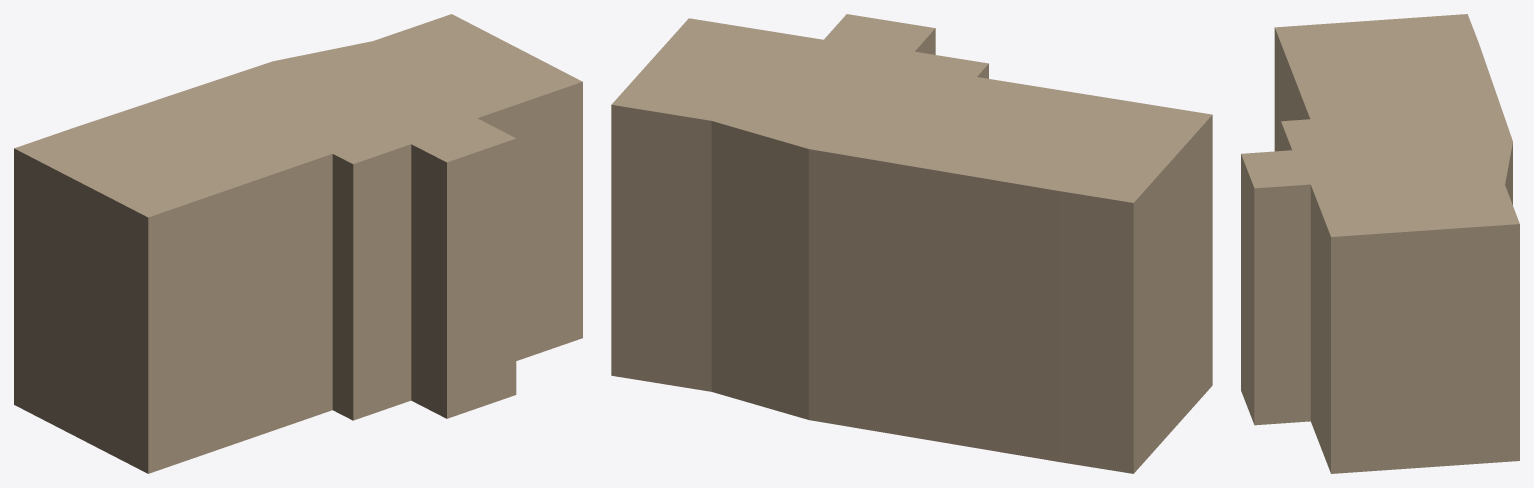
Rendered from bld_101562412.dae.
3 renders of one model, left to right at view 1: azimuth 30°, elevation 25°; view 2: azimuth 150°, elevation 25°; view 3: azimuth 270°, elevation 25°, orthographic. The views are drawn at different scales.
Visible parts, largest first — view 1: bld_101562412; view 2: bld_101562412; view 3: bld_101562412.
Part boxes in pixels (x1=…): bld_101562412: x1=14, y1=14, x2=582, y2=473; bld_101562412: x1=611, y1=14, x2=1212, y2=473; bld_101562412: x1=1241, y1=14, x2=1519, y2=473.
Size of the model in its own units: 16.15 by 8.54 by 8.
